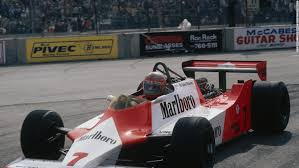FormulaOneCar: (5, 54, 294, 168)
